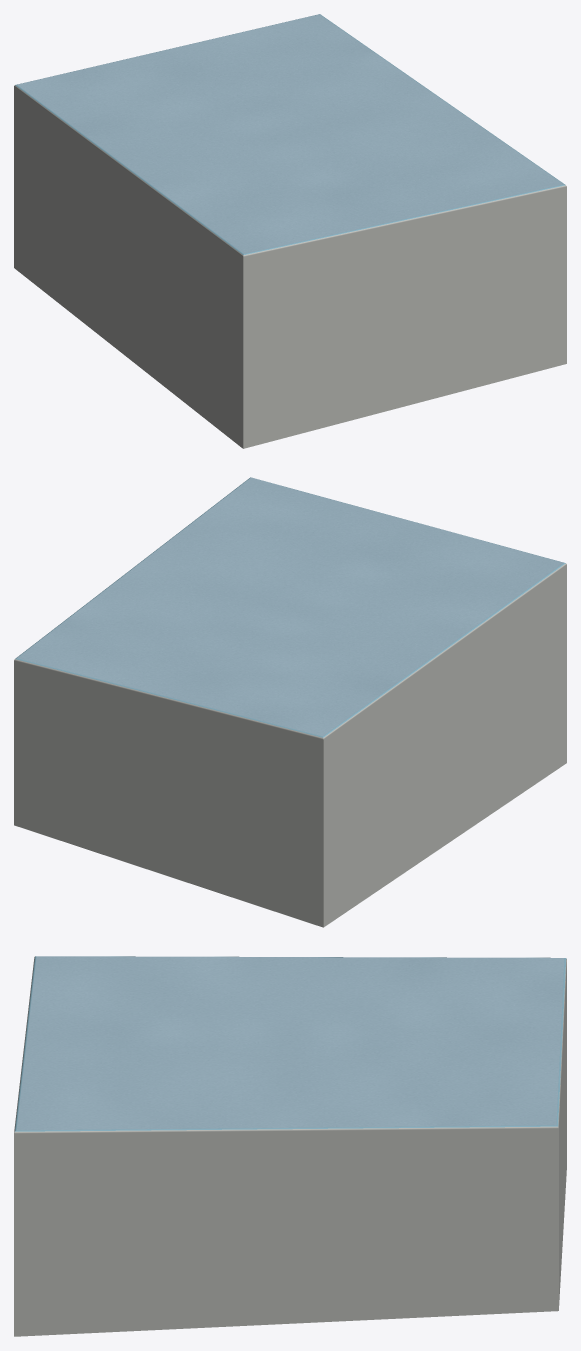
The model's file is intact.glb.
3 views of the same model, one above another, from view 1: azimuth 30°, elevation 25°; view 2: azimuth 150°, elevation 25°; view 3: azimuth 270°, elevation 25° (orthographic). The views are drawn at different scales.
Visible parts, largest first — view 1: SM_rock-store_Intact_00; view 2: SM_rock-store_Intact_00; view 3: SM_rock-store_Intact_00.
Boxes of the visible parts, bbox=[...] form: SM_rock-store_Intact_00: bbox=[14, 14, 566, 448]; SM_rock-store_Intact_00: bbox=[14, 477, 566, 927]; SM_rock-store_Intact_00: bbox=[14, 956, 566, 1336].
Bounding box in the file's own units: 1.66 × 0.9757 × 2.2.
3 materials, 1 textured.
